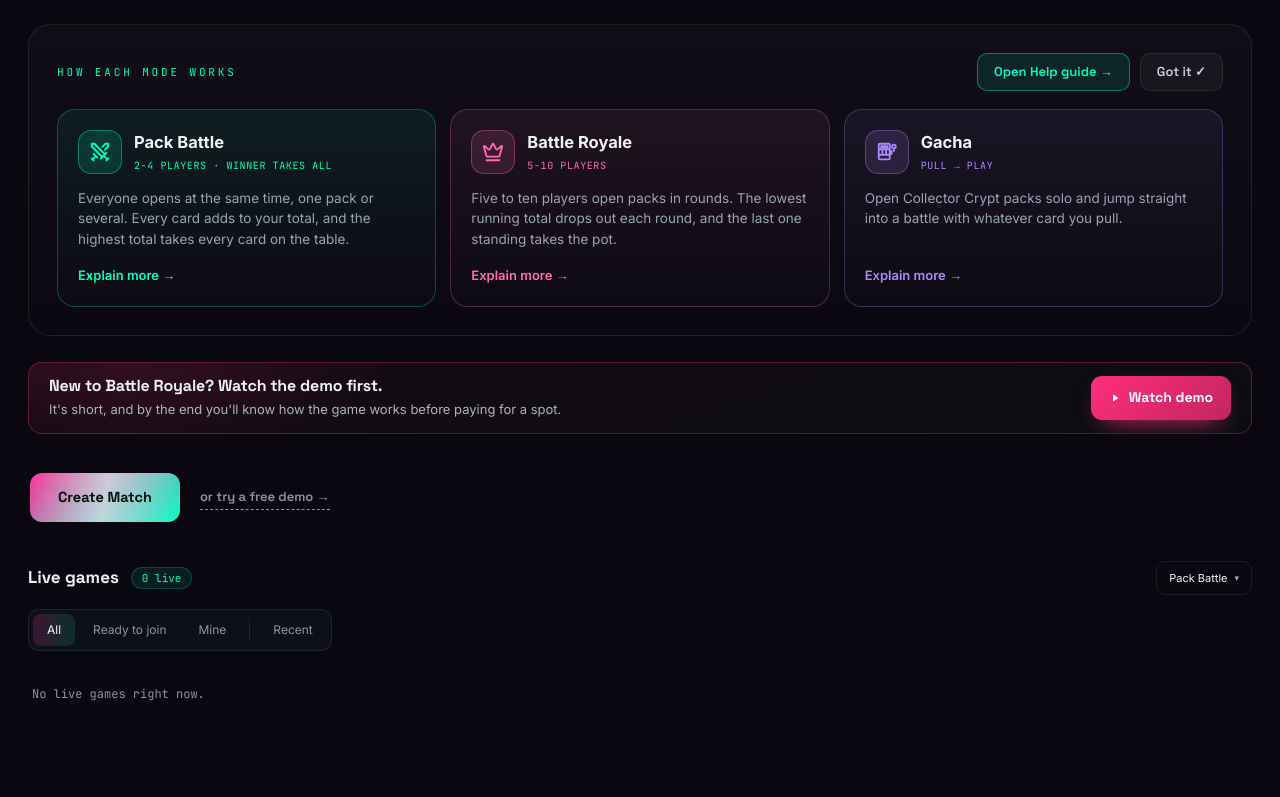
it: Lobby · lo que enseña la card de una partida terminada › cada rótulo va encima de su número
What coordinates should you click on to do the following:
click the text "Recent"
I would click on:
 (293, 630)
Its box is [273, 622, 313, 637].
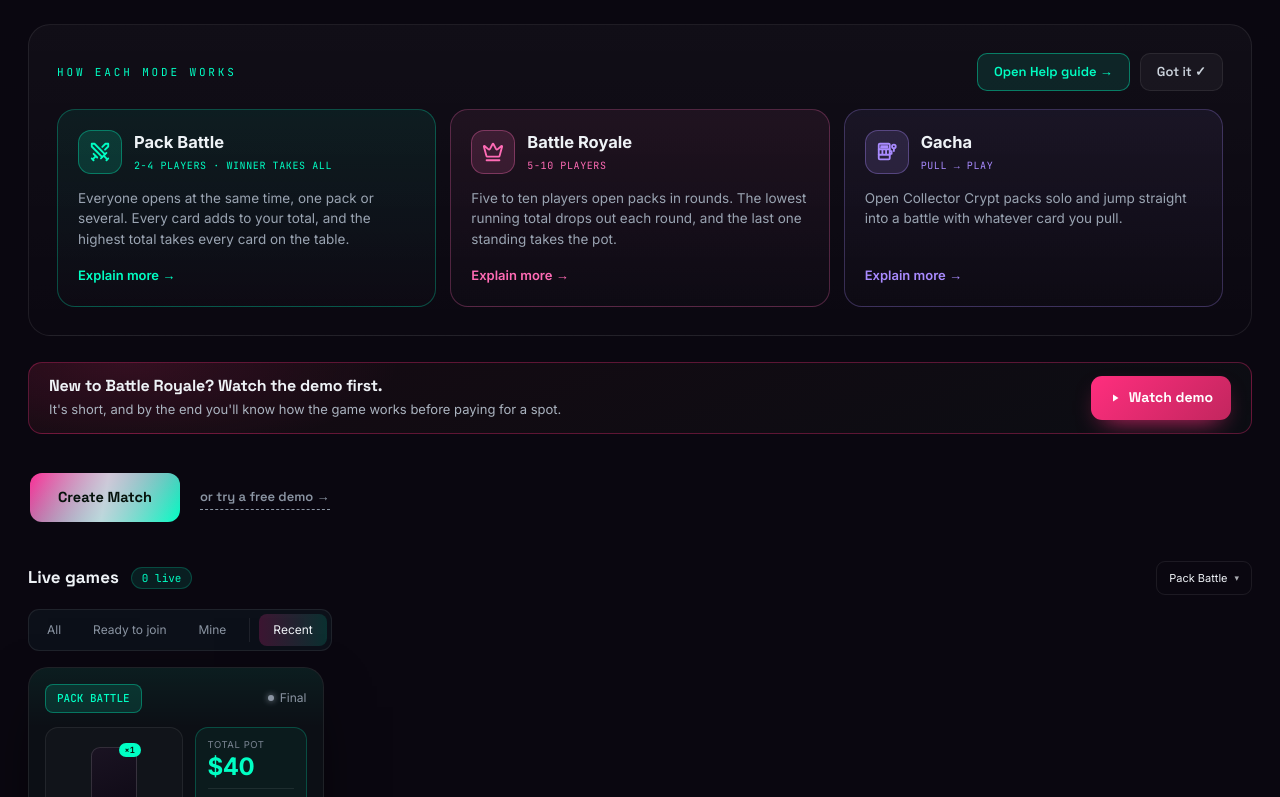
Expected: the text "TOTAL POT" is shown, [208, 739, 265, 750]
